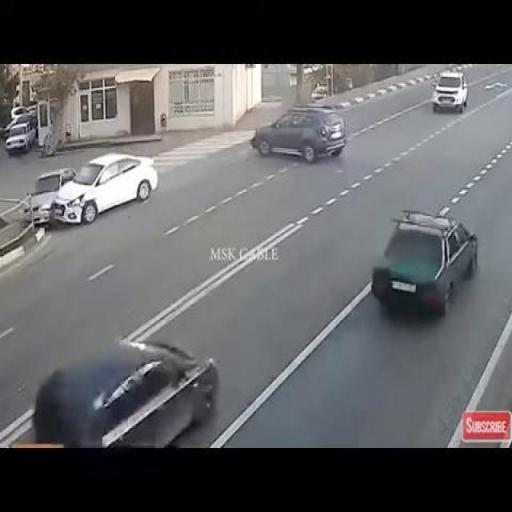小汽车: (45, 339, 219, 443), (373, 210, 479, 320), (248, 108, 346, 158), (434, 70, 470, 110)
小汽车撞小汽车: (26, 150, 158, 226)
